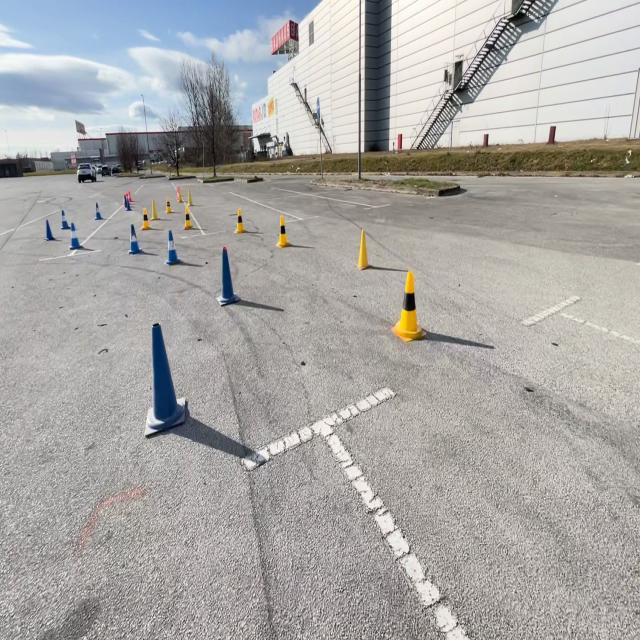blue_cone: (150, 318, 187, 432), (215, 245, 240, 306), (509, 0, 560, 27), (163, 228, 180, 266), (128, 223, 142, 254), (68, 220, 82, 250), (43, 217, 55, 240), (59, 210, 69, 230), (94, 201, 102, 220)
orange_cone: (124, 190, 132, 209), (175, 186, 182, 202)
yellow_cone: (391, 268, 426, 341), (355, 228, 372, 269), (275, 214, 291, 248), (137, 204, 150, 236), (182, 204, 195, 232), (233, 206, 246, 233), (150, 197, 159, 220), (164, 194, 172, 214), (185, 189, 194, 206)
